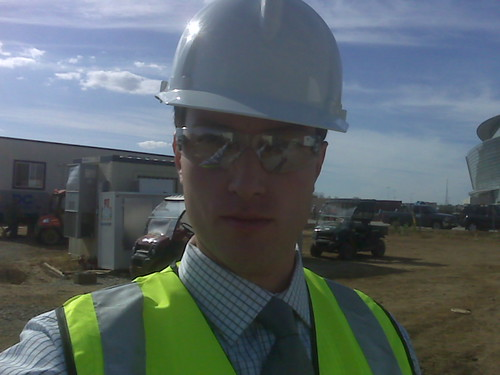person hardhat: (15, 1, 426, 373)
